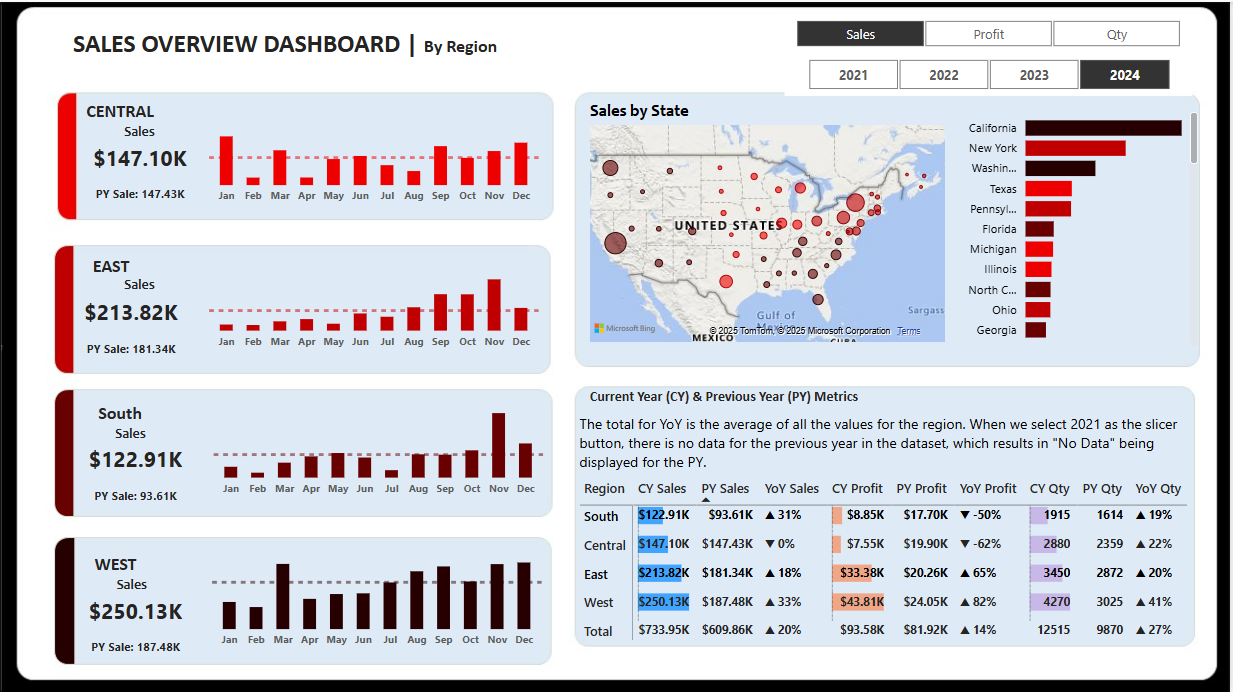

This screenshot's page, from the dashboard's own definition file:
{"tool":"powerbi","page":{"name":"Page 1","canvas":[1280,720],"ordinal":0},"visuals":[{"type":"slicer","fields":{"Values":["Select Metric.Select Metric"]},"box":[804.3,12.5,448.2,40.6],"z":0},{"type":"card","fields":{"Values":["Sales Data.Total Sales"]},"box":[68.7,140.6,156.2,45.3],"z":1000},{"type":"textbox","box":[79.7,96.8,90.6,43.7],"z":2000},{"type":"slicer","fields":{"Values":["Calendar Table.Year"]},"box":[817,52.5,424.4,44.5],"z":3000},{"type":"card","fields":{"Values":["Sales Data.Dynamic Title"]},"box":[79.7,118.7,132.8,35.9],"z":4000},{"type":"card","fields":{"Values":["Sales Data.PY KPI Sales"]},"box":[79.7,185.9,132.8,32.8],"z":5000},{"type":"clusteredColumnChart","fields":{"Y":["Sales Data.Total Sales"],"Category":["Calendar Table.Month"]},"box":[212.4,106.2,354.5,112.5],"z":6000},{"type":"textbox","box":[32.8,21.9,534.1,48.4],"z":7000},{"type":"card","fields":{"Values":["Sales Data.Total Sales"]},"box":[60,301.5,156.2,45.3],"z":8000},{"type":"textbox","box":[70.9,257.8,90.6,43.7],"z":9000},{"type":"card","fields":{"Values":["Sales Data.PY KPI Sales"]},"box":[70.9,346.8,132.8,32.8],"z":10000},{"type":"clusteredColumnChart","fields":{"Y":["Sales Data.Total Sales"],"Category":["Calendar Table.Month"]},"box":[212.4,257.7,354.5,112.5],"z":11000},{"type":"card","fields":{"Values":["Sales Data.Total Sales"]},"box":[64.8,455.2,156.2,45.3],"z":12000},{"type":"textbox","box":[79.7,410.8,90.6,43.7],"z":13000},{"type":"card","fields":{"Values":["Sales Data.PY KPI Sales"]},"box":[75.7,500.5,132.8,32.8],"z":14000},{"type":"clusteredColumnChart","fields":{"Y":["Sales Data.Total Sales"],"Category":["Calendar Table.Month"]},"box":[217.2,411.4,354.5,112.5],"z":15000},{"type":"card","fields":{"Values":["Sales Data.Total Sales"]},"box":[63.7,612.5,156.2,45.3],"z":16000},{"type":"textbox","box":[74.7,568.7,90.6,43.7],"z":17000},{"type":"card","fields":{"Values":["Sales Data.PY KPI Sales"]},"box":[74.7,657.7,132.8,32.8],"z":18000},{"type":"clusteredColumnChart","fields":{"Y":["Sales Data.Total Sales"],"Category":["Calendar Table.Month"]},"box":[216.2,568.6,354.5,112.5],"z":19000},{"type":"card","fields":{"Values":["Sales Data.Dynamic Title"]},"box":[79.7,278,132.8,35.9],"z":20000},{"type":"card","fields":{"Values":["Sales Data.Dynamic Title"]},"box":[70.3,432.6,132.8,35.9],"z":21000},{"type":"card","fields":{"Values":["Sales Data.Dynamic Title"]},"box":[71.8,589.6,132.3,35.9],"z":22000},{"type":"map","title":"Sales by State","fields":{"Size":["Sales Data.Total Sales"],"Category":["Sales Data.State/Province"],"Series":["Sales Data.Region"]},"box":[609.1,101.5,379.5,257.7],"z":23000},{"type":"barChart","fields":{"Y":["Sales Data.Total Sales"],"Category":["Sales Data.State/Province"],"Series":["Sales Data.Region"]},"box":[988.6,101.5,263.9,262.4],"z":24000},{"type":"pivotTable","fields":{"Rows":["Sales Data.Region"],"Values":["Sales Data.CY Sales","Sales Data.PY Sales","Sales Data.YoY Sales","Sales Data.CY Profit","Sales Data.PY Profit","Sales Data.YoY Profit","Sales Data.CY Qty","Sales Data.PY Qty","Sales Data.YoY Qty"]},"box":[598.2,490.4,643.5,190.5],"z":25000},{"type":"textbox","box":[609.1,395.1,299.9,37.5],"z":25001},{"type":"textbox","box":[598.2,423.3,654.4,76.5],"z":25002}]}

Visuals, with their boxes in screenshot pixels (x1, y1, x2, y2), scaled from the page's 1280x720 canvas onto the 1233x692 screenshot:
slicer - Select Metric.Select Metric: 775:12:1207:51
card - Sales Data.Total Sales: 66:135:217:179
textbox: 77:93:164:135
slicer - Calendar Table.Year: 787:50:1196:93
card - Sales Data.Dynamic Title: 77:114:205:149
card - Sales Data.PY KPI Sales: 77:179:205:210
clusteredColumnChart - Sales Data.Total Sales x Calendar Table.Month: 205:102:546:210
textbox: 32:21:546:68
card - Sales Data.Total Sales: 58:290:208:333
textbox: 68:248:156:290
card - Sales Data.PY KPI Sales: 68:333:196:365
clusteredColumnChart - Sales Data.Total Sales x Calendar Table.Month: 205:248:546:356
card - Sales Data.Total Sales: 62:437:213:481
textbox: 77:395:164:437
card - Sales Data.PY KPI Sales: 73:481:201:513
clusteredColumnChart - Sales Data.Total Sales x Calendar Table.Month: 209:395:551:504
card - Sales Data.Total Sales: 61:589:212:632
textbox: 72:547:159:589
card - Sales Data.PY KPI Sales: 72:632:200:664
clusteredColumnChart - Sales Data.Total Sales x Calendar Table.Month: 208:546:550:655
card - Sales Data.Dynamic Title: 77:267:205:302
card - Sales Data.Dynamic Title: 68:416:196:450
card - Sales Data.Dynamic Title: 69:567:197:601
"Sales by State" map: 587:98:952:345
barChart - Sales Data.Total Sales x Sales Data.State/Province: 952:98:1207:350
pivotTable - Sales Data.Region x Sales Data.CY Sales: 576:471:1196:654
textbox: 587:380:876:416
textbox: 576:407:1207:480
